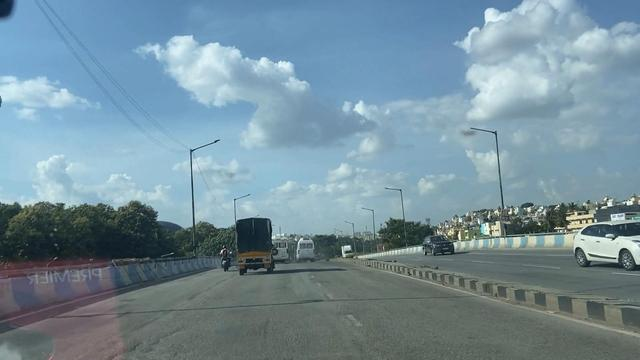HMV: (233, 215, 279, 275)
LMV: (217, 242, 234, 272)
RoadDamages: (100, 311, 226, 356)
